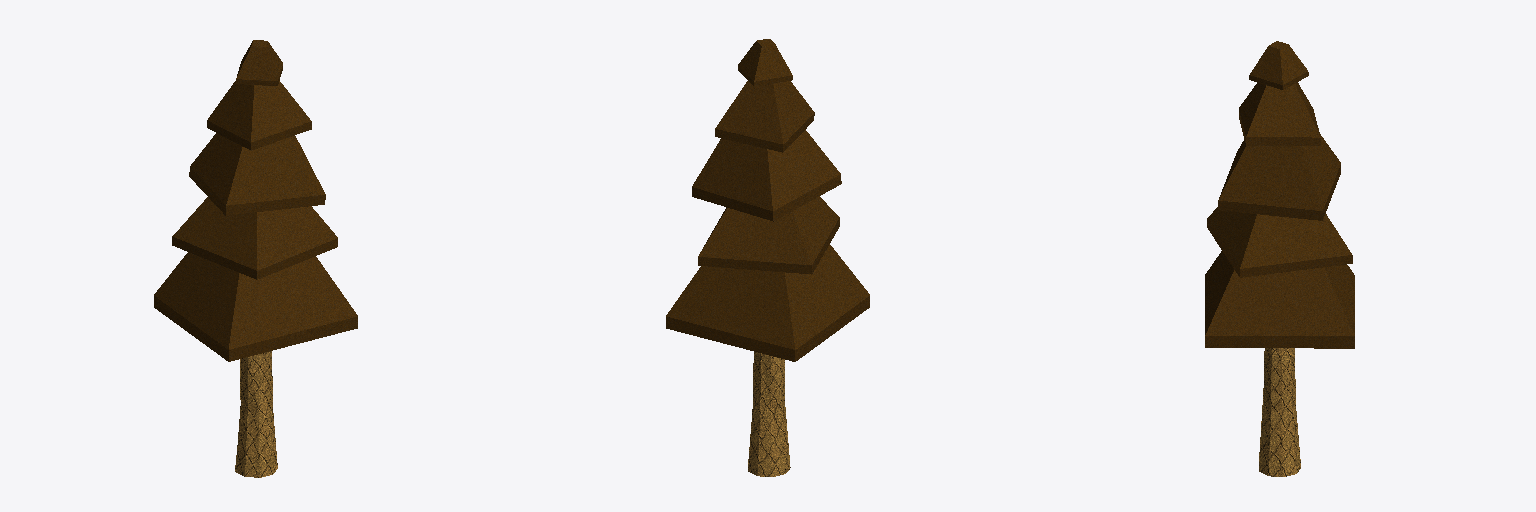
The picture shows the model from 3 angles: view 1: azimuth 30°, elevation 25°; view 2: azimuth 150°, elevation 25°; view 3: azimuth 270°, elevation 25°; orthographic projection.
Parts seen in each view (by area): view 1: Cube.004, wood_Cylinder; view 2: Cube.004, wood_Cylinder; view 3: Cube.004, wood_Cylinder.
Boxes of the visible parts, x1,y1,x2,y2 form: Cube.004: [154, 40, 357, 361]; wood_Cylinder: [235, 351, 277, 477]; Cube.004: [666, 39, 869, 361]; wood_Cylinder: [748, 352, 790, 476]; Cube.004: [1205, 41, 1354, 348]; wood_Cylinder: [1259, 348, 1300, 476].
Size of the model in its own units: 1.11 by 3.47 by 1.11.
Materials: 2 (2 with a texture image).